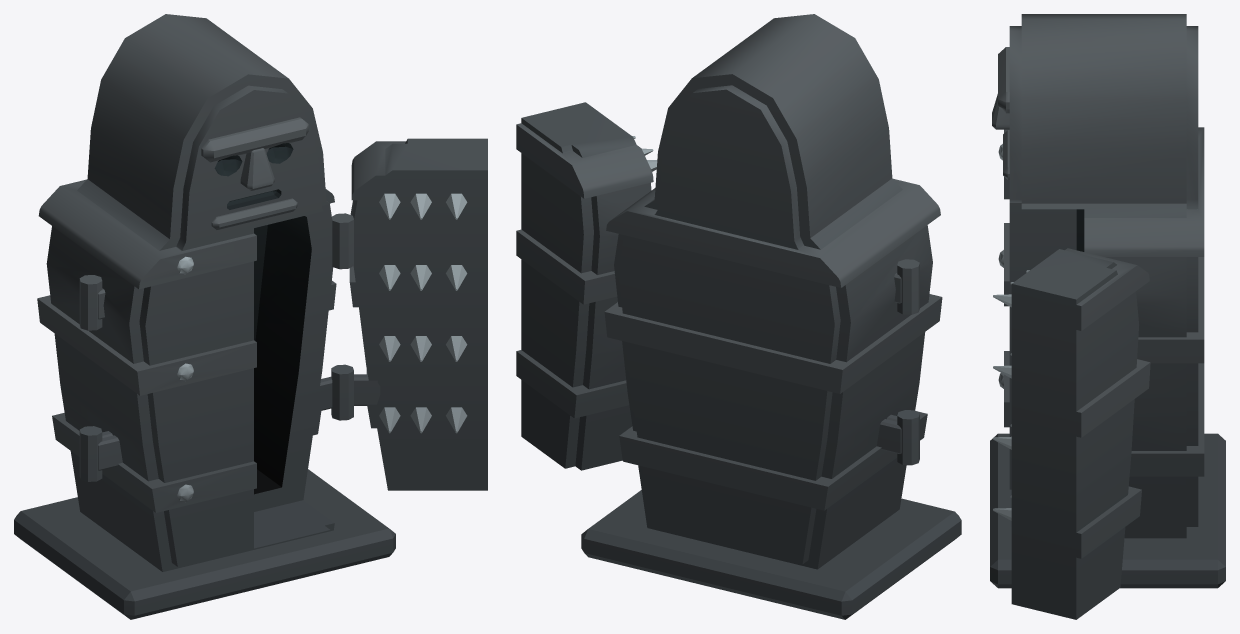
File: iron_maiden_open.glb
3 views of the same model, side by side, from view 1: azimuth 30°, elevation 25°; view 2: azimuth 150°, elevation 25°; view 3: azimuth 270°, elevation 25° (orthographic).
Parts seen in each view (by area): view 1: iron_maiden_open; view 2: iron_maiden_open; view 3: iron_maiden_open.
Part boxes in pixels (<box>): iron_maiden_open: <box>14,14,487,619</box>; iron_maiden_open: <box>516,14,961,619</box>; iron_maiden_open: <box>990,14,1225,619</box>.
Bounding box in the file's own units: 2.39 × 2.84 × 1.2.
1 material, 1 textured.
